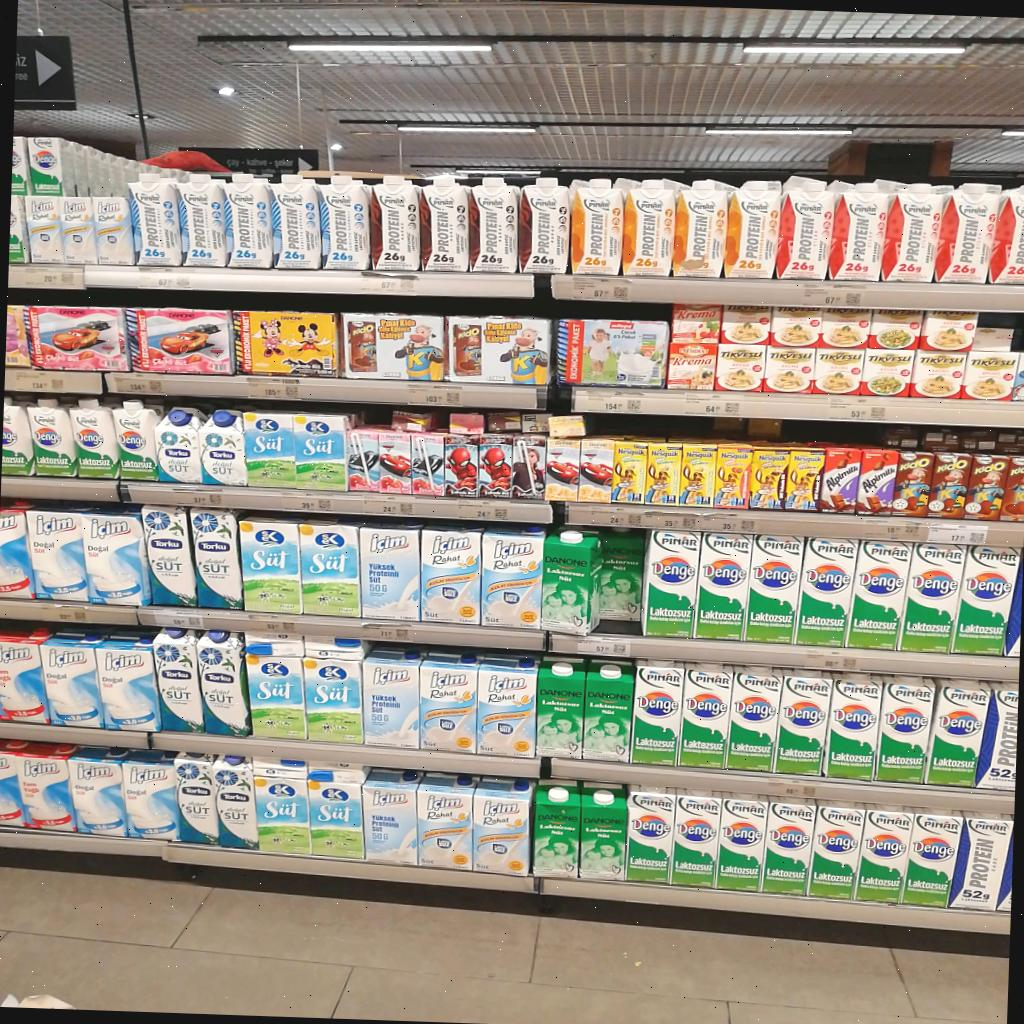price_tag: (5, 369, 99, 393), (8, 265, 84, 288), (802, 283, 866, 308), (572, 276, 631, 301), (827, 397, 885, 421), (683, 394, 740, 416), (928, 524, 987, 545), (407, 384, 463, 406), (360, 273, 417, 294), (248, 377, 300, 400), (871, 518, 924, 539), (111, 375, 165, 395), (807, 649, 858, 670), (578, 637, 631, 657), (139, 268, 191, 288), (705, 513, 757, 533), (456, 502, 509, 521), (827, 398, 870, 421), (765, 780, 819, 798), (17, 373, 66, 392), (600, 392, 644, 413), (367, 498, 415, 516), (364, 624, 410, 641), (657, 513, 700, 530), (159, 613, 204, 629), (250, 618, 296, 633), (607, 510, 644, 527), (289, 498, 333, 512), (54, 606, 88, 622), (190, 492, 224, 507)
product: (553, 319, 668, 386), (898, 542, 968, 652), (950, 545, 1019, 655), (448, 316, 552, 385), (126, 307, 234, 373), (846, 540, 911, 649), (924, 679, 989, 787), (342, 313, 443, 382), (793, 538, 856, 646), (236, 310, 339, 376), (82, 508, 151, 606), (881, 183, 949, 282), (742, 535, 804, 643), (935, 183, 1000, 283), (25, 306, 128, 369), (481, 527, 544, 630), (948, 812, 1013, 910), (641, 531, 701, 637), (542, 529, 601, 635), (693, 532, 751, 639), (95, 635, 160, 730), (823, 674, 881, 780), (24, 508, 89, 602), (25, 508, 90, 602), (476, 658, 537, 757), (773, 673, 832, 775), (875, 677, 932, 782), (361, 650, 421, 749), (828, 181, 888, 280), (776, 177, 833, 281), (239, 519, 302, 613), (41, 633, 104, 727), (672, 180, 733, 277), (900, 812, 962, 907), (473, 778, 533, 875), (420, 653, 478, 753), (359, 525, 420, 620), (725, 668, 781, 771), (421, 528, 481, 624), (362, 768, 422, 864), (299, 523, 360, 616), (128, 170, 187, 266), (630, 661, 684, 764), (678, 664, 732, 767), (198, 630, 250, 736), (724, 181, 781, 277), (854, 808, 912, 902), (417, 773, 473, 870), (807, 805, 864, 900), (142, 506, 196, 606), (304, 651, 362, 744), (14, 745, 76, 831), (188, 510, 242, 608), (70, 747, 129, 836), (254, 762, 311, 854), (153, 628, 203, 732), (621, 180, 675, 276), (582, 661, 633, 762), (247, 655, 307, 740), (570, 179, 623, 274), (122, 753, 179, 839), (308, 772, 364, 859), (369, 176, 420, 271), (180, 173, 232, 266), (716, 797, 767, 891), (763, 802, 815, 894), (536, 659, 585, 756), (533, 779, 581, 878), (419, 176, 469, 271), (468, 177, 518, 272), (226, 173, 276, 267), (519, 178, 569, 272), (319, 177, 370, 269), (670, 794, 720, 887), (666, 305, 721, 389), (0, 629, 49, 723), (626, 789, 674, 884), (975, 683, 1018, 788), (272, 175, 320, 269), (580, 782, 626, 880), (213, 756, 257, 850), (294, 413, 346, 490), (174, 752, 217, 844), (244, 411, 295, 487), (70, 399, 118, 477), (28, 399, 76, 476), (988, 185, 1024, 283), (115, 400, 159, 480), (156, 407, 202, 483), (201, 410, 246, 485), (0, 509, 36, 598), (963, 453, 1010, 520), (817, 445, 863, 511), (926, 453, 971, 518), (960, 350, 1017, 400), (858, 347, 915, 396), (94, 197, 135, 265), (909, 349, 965, 398), (856, 448, 897, 514), (892, 452, 934, 516), (1, 397, 35, 475), (713, 443, 753, 508), (25, 196, 64, 262), (784, 446, 824, 510), (748, 446, 788, 509), (578, 438, 617, 502), (60, 197, 96, 264), (715, 343, 765, 391), (763, 345, 814, 392), (814, 347, 865, 394), (644, 442, 682, 505), (679, 442, 716, 506), (0, 740, 27, 826), (611, 439, 647, 503), (917, 311, 976, 350), (666, 343, 716, 389), (410, 432, 445, 495), (27, 137, 65, 195), (868, 309, 922, 349), (512, 435, 545, 499), (545, 438, 579, 500), (347, 428, 379, 492), (379, 429, 411, 493), (719, 305, 771, 344), (769, 306, 821, 345), (444, 435, 477, 496), (479, 437, 512, 497), (818, 308, 870, 346), (672, 304, 721, 343), (1001, 456, 1024, 522), (8, 195, 29, 262)
